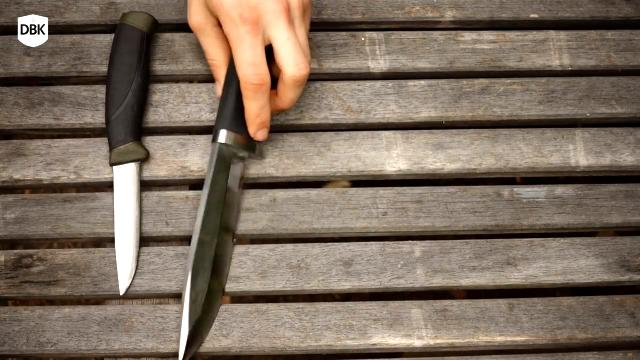pocket-knife: (177, 28, 267, 360), (104, 6, 160, 302)
